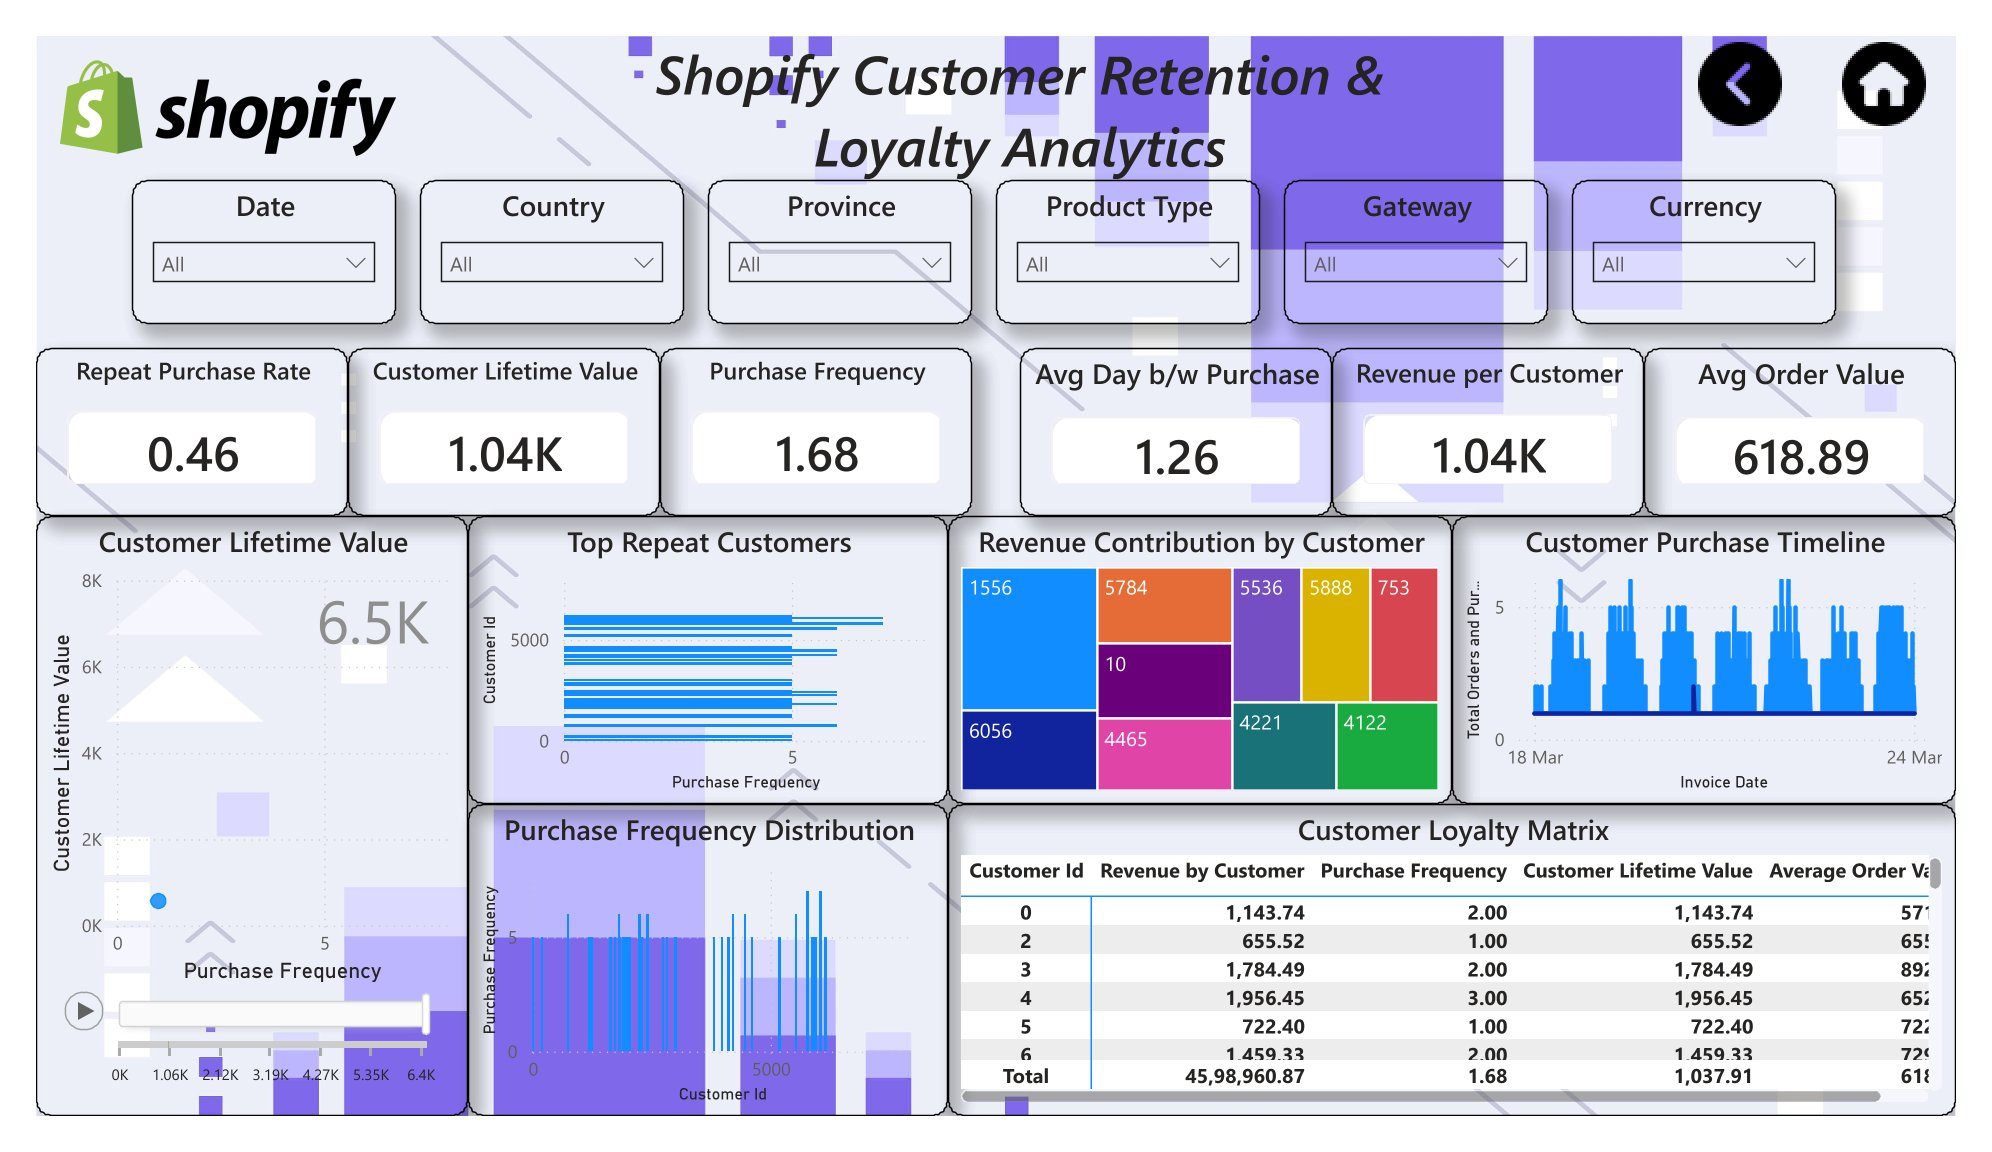

This screenshot's page, from the dashboard's own definition file:
{"tool":"powerbi","page":{"name":"Retention","canvas":[1280,720],"ordinal":6},"visuals":[{"type":"image","box":[0,0,1280,720],"z":0},{"type":"image","box":[16,0,224,96],"z":1000},{"type":"textbox","title":"Shopify Customer Retention & Loyalty Analytics","box":[368,0,576,96],"z":2000},{"type":"actionButton","box":[1184,0,96,64],"z":3000},{"type":"actionButton","box":[1088,0,96,64],"z":4000},{"type":"slicer","title":"Date","fields":{"Values":["shopify_sales.Invoice Date"]},"box":[64,96,176,96],"z":5000},{"type":"slicer","title":"Country","fields":{"Values":["shopify_sales.Billing Address Country"]},"box":[256,96,176,96],"z":6000},{"type":"slicer","title":"Province","fields":{"Values":["shopify_sales.Billing Address Province"]},"box":[448,96,176,96],"z":7000},{"type":"slicer","title":"Product Type","fields":{"Values":["shopify_sales.Product Type"]},"box":[640,96,176,96],"z":8000},{"type":"slicer","title":"Gateway","fields":{"Values":["shopify_sales.Gateway"]},"box":[832,96,176,96],"z":9000},{"type":"slicer","title":"Currency","fields":{"Values":["shopify_sales.Currency"]},"box":[1024,96,176,96],"z":10000},{"type":"cardVisual","title":"Avg Order Value","fields":{"Data":["shopify_sales.Average Order Value"]},"box":[1072,208,208,112],"z":11000},{"type":"cardVisual","title":"Repeat Purchase Rate","fields":{"Data":["shopify_sales.Repeat Purchase Rate"]},"box":[0,208,208,112],"z":12000},{"type":"cardVisual","title":"Customer Lifetime Value","fields":{"Data":["shopify_sales.Customer Lifetime Value"]},"box":[208,208,208,112],"z":13000},{"type":"cardVisual","title":"Purchase Frequency","fields":{"Data":["shopify_sales.Purchase Frequency"]},"box":[416,208,208,112],"z":14000},{"type":"cardVisual","title":"Avg Day b/w Purchase","fields":{"Data":["shopify_sales.Average Days Between Purchases"]},"box":[656,208,208,112],"z":15000},{"type":"cardVisual","title":"Revenue per Customer","fields":{"Data":["shopify_sales.Revenue per Customer"]},"box":[864,208,208,112],"z":16000},{"type":"scatterChart","title":"Customer Lifetime Value","fields":{"X":["shopify_sales.Purchase Frequency"],"Y":["shopify_sales.Customer Lifetime Value"],"Size":["shopify_sales.Revenue by Customer"],"Play":["shopify_sales.Customer Id"]},"box":[0,320,288,400],"z":17000},{"type":"barChart","title":"Top Repeat Customers","fields":{"Category":["shopify_sales.Customer Id"],"Y":["shopify_sales.Purchase Frequency"]},"box":[288,320,320,192],"z":18000},{"type":"clusteredColumnChart","title":"Purchase Frequency Distribution","fields":{"Category":["shopify_sales.Customer Id"],"Y":["shopify_sales.Purchase Frequency"]},"box":[288,512,320,208],"z":19000},{"type":"treemap","title":"Revenue Contribution by Customer","fields":{"Group":["shopify_sales.Customer Id"],"Values":["shopify_sales.Revenue by Customer"]},"box":[608,320,336,192],"z":20000},{"type":"lineChart","title":"Customer Purchase Timeline","fields":{"Y":["shopify_sales.Total Orders","shopify_sales.Purchase Frequency"],"Category":["shopify_sales.Invoice Date"]},"box":[944,320,336,192],"z":21000},{"type":"pivotTable","title":"Customer Loyalty Matrix","fields":{"Rows":["shopify_sales.Customer Id"],"Values":["shopify_sales.Revenue by Customer","shopify_sales.Purchase Frequency","shopify_sales.Customer Lifetime Value","shopify_sales.Average Order Value"]},"box":[608,512,672,208],"z":22000}]}

Visuals, with their boxes in screenshot pixels (x1, y1, x2, y2), scaled from the page's 1280x720 canvas onto the 1992x1152 screenshot:
image: 0/0/1991/1151
image: 25/0/374/154
"Shopify Customer Retention & Loyalty Analytics" textbox: 573/0/1469/154
actionButton: 1843/0/1991/102
actionButton: 1693/0/1843/102
"Date" slicer: 100/154/374/307
"Country" slicer: 398/154/672/307
"Province" slicer: 697/154/971/307
"Product Type" slicer: 996/154/1270/307
"Gateway" slicer: 1295/154/1569/307
"Currency" slicer: 1594/154/1868/307
"Avg Order Value" cardVisual: 1668/333/1991/512
"Repeat Purchase Rate" cardVisual: 0/333/324/512
"Customer Lifetime Value" cardVisual: 324/333/647/512
"Purchase Frequency" cardVisual: 647/333/971/512
"Avg Day b/w Purchase" cardVisual: 1021/333/1345/512
"Revenue per Customer" cardVisual: 1345/333/1668/512
"Customer Lifetime Value" scatterChart: 0/512/448/1151
"Top Repeat Customers" barChart: 448/512/946/819
"Purchase Frequency Distribution" clusteredColumnChart: 448/819/946/1151
"Revenue Contribution by Customer" treemap: 946/512/1469/819
"Customer Purchase Timeline" lineChart: 1469/512/1991/819
"Customer Loyalty Matrix" pivotTable: 946/819/1991/1151
